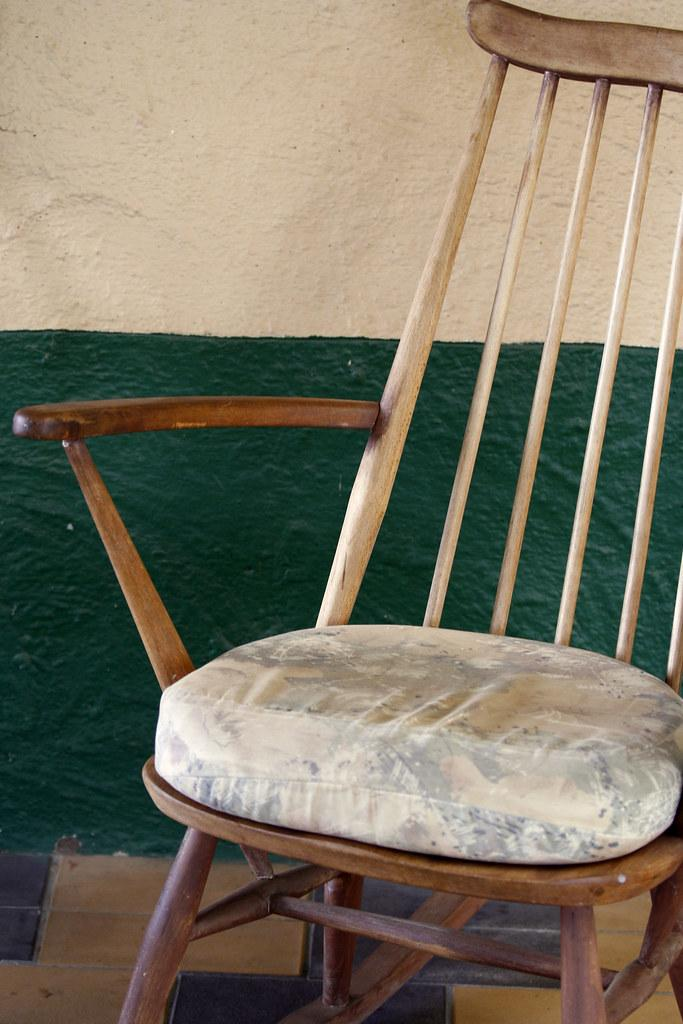chair: (13, 2, 683, 1023)
